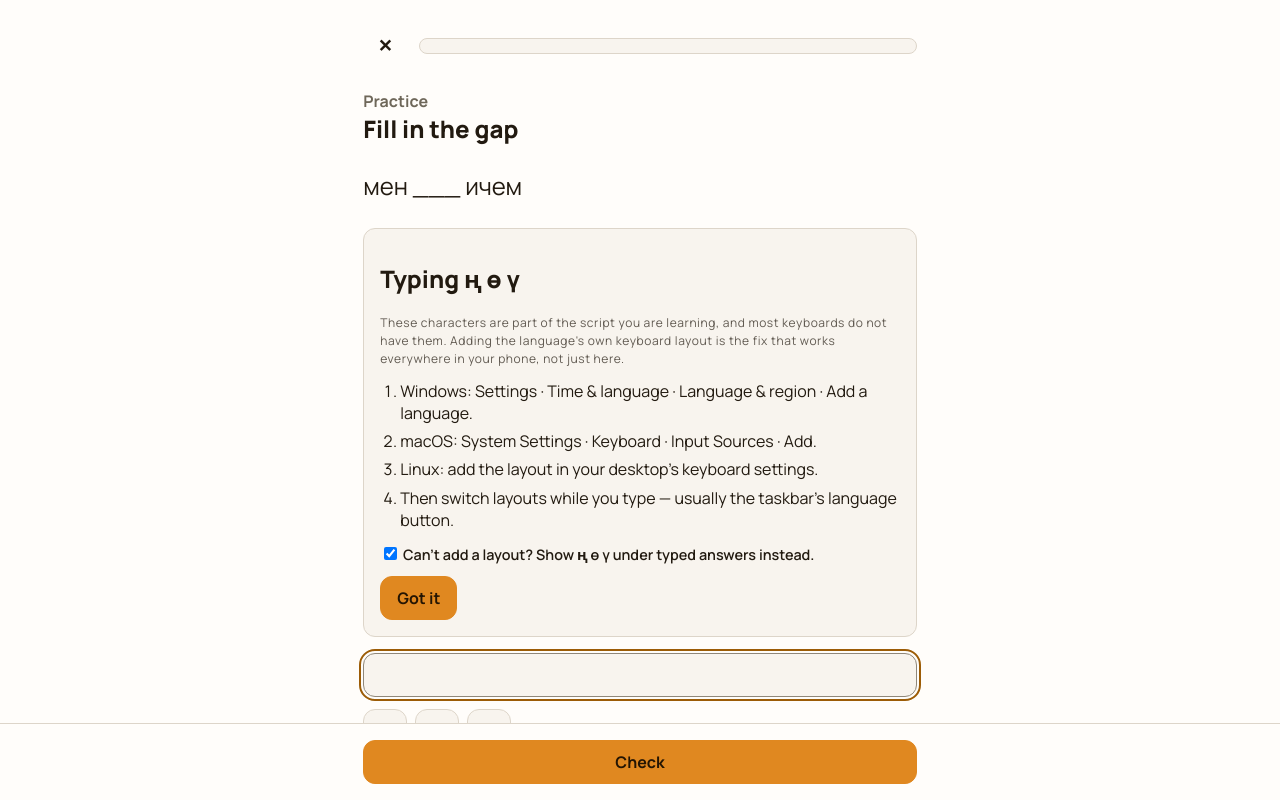
extra-key row › hides the row once the question is answered
Type "сүт" into the field at (640, 675), box [363,653,917,697]
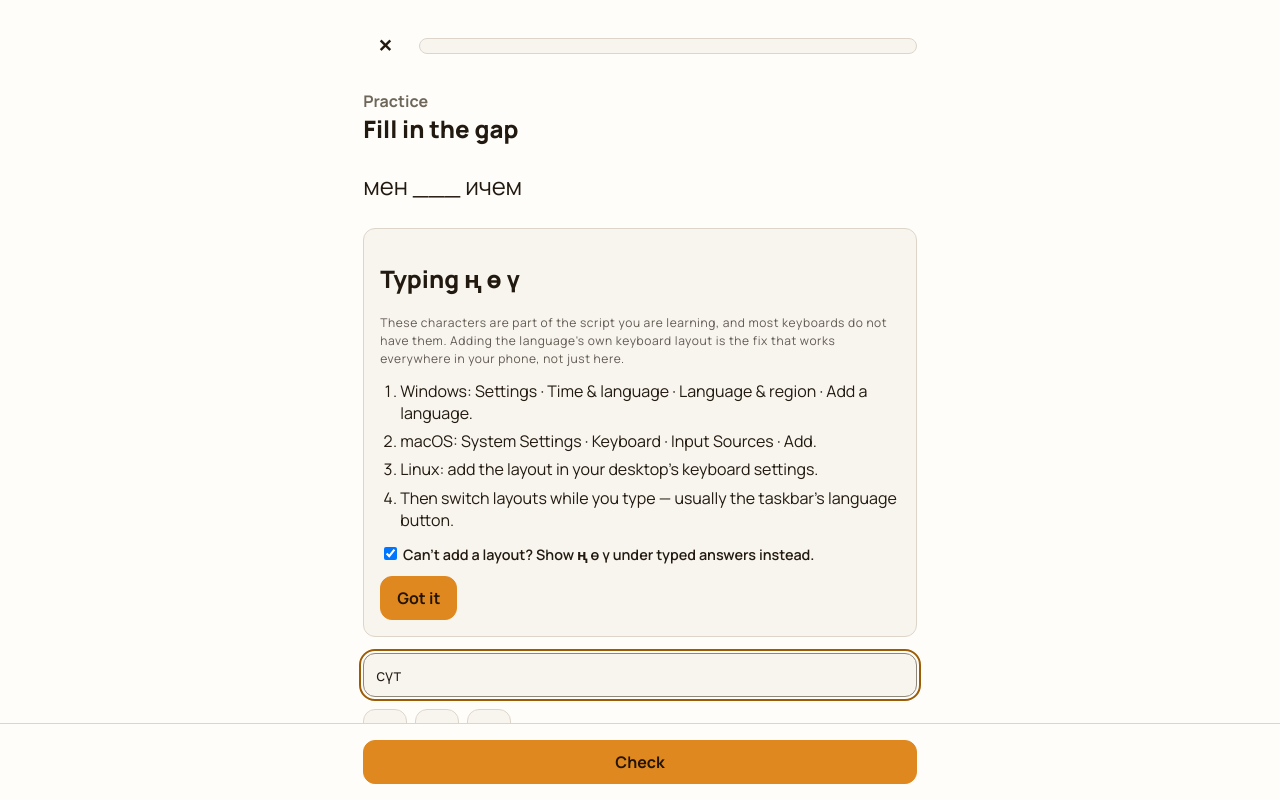
Click the button "Check" at (640, 762), box [363,740,917,784]
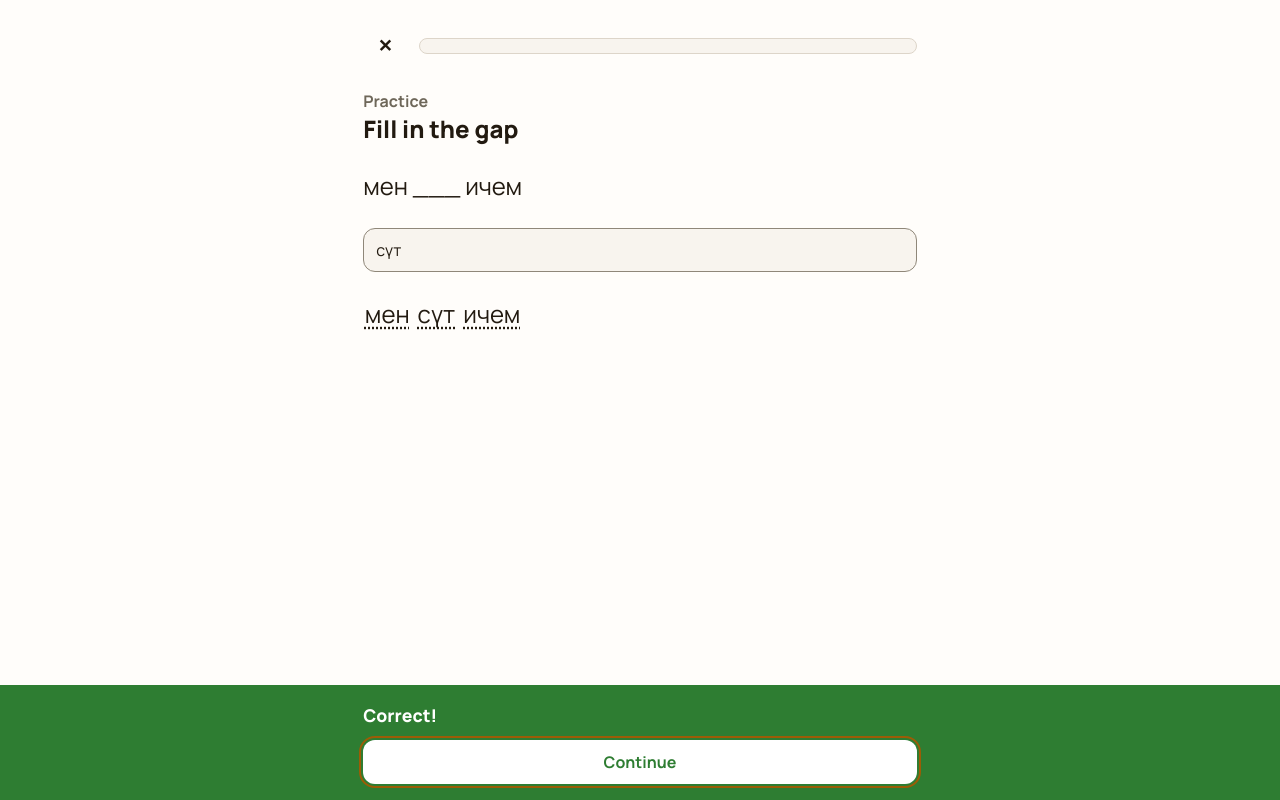
expect the heading "ң" is gone: met
